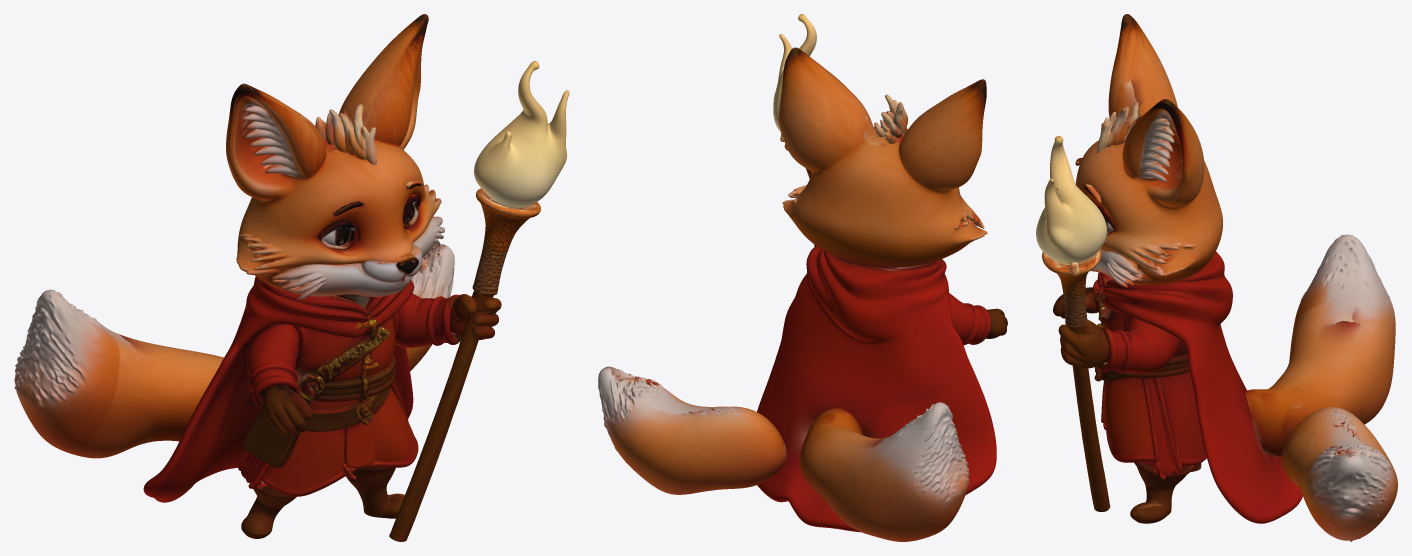
The model's file is player (23).glb.
3 views of the same model, side by side, from view 1: azimuth 30°, elevation 25°; view 2: azimuth 150°, elevation 25°; view 3: azimuth 270°, elevation 25° (orthographic). The views are drawn at different scales.
Parts seen in each view (by area): view 1: texture_pbr_v128; view 2: texture_pbr_v128; view 3: texture_pbr_v128.
Part boxes in pixels (bbox=[...]): texture_pbr_v128: bbox=[14, 14, 569, 541]; texture_pbr_v128: bbox=[598, 14, 1007, 541]; texture_pbr_v128: bbox=[1036, 14, 1397, 541].
Bounding box in the file's own units: 0.8642 × 0.9311 × 0.699.
1 material, 1 textured.
